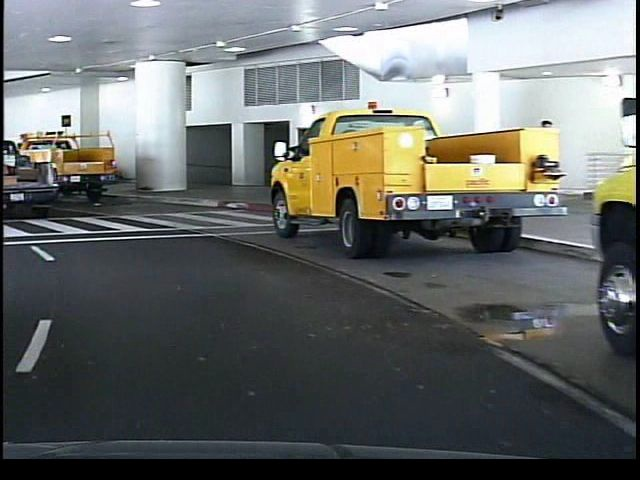person: (528, 112, 562, 218)
